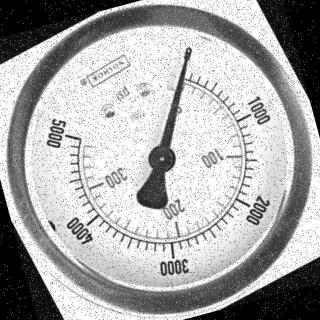gauge: (0, 0, 320, 320), (158, 35, 212, 87), (48, 114, 92, 161), (144, 142, 180, 176), (177, 42, 198, 62)
